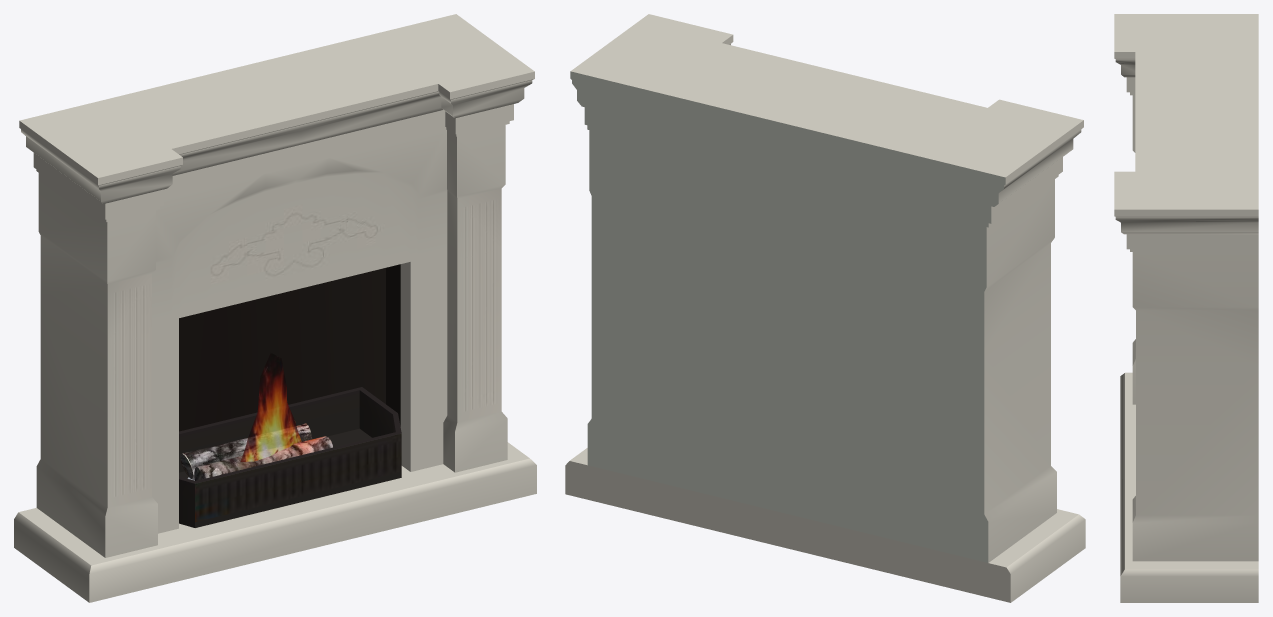
Rendered from fireplace.glb.
3 views of the same model, side by side, from view 1: azimuth 30°, elevation 25°; view 2: azimuth 150°, elevation 25°; view 3: azimuth 270°, elevation 25° (orthographic). The views are drawn at different scales.
Visible parts, largest first — view 1: Object_4, Object_5, Object_8, Object_7, Object_6; view 2: Object_3, Object_4; view 3: Object_4.
Part boxes in pixels (x1,y1,x2,y2): Object_4: [14, 14, 536, 602]; Object_5: [179, 264, 400, 431]; Object_8: [179, 387, 401, 527]; Object_7: [180, 423, 332, 480]; Object_6: [240, 353, 301, 461]; Object_3: [570, 71, 1005, 562]; Object_4: [565, 14, 1085, 602]; Object_4: [1114, 14, 1258, 602].
Bounding box in the file's own units: 1.26 × 1.15 × 0.3849.
4 materials, 4 textured.
